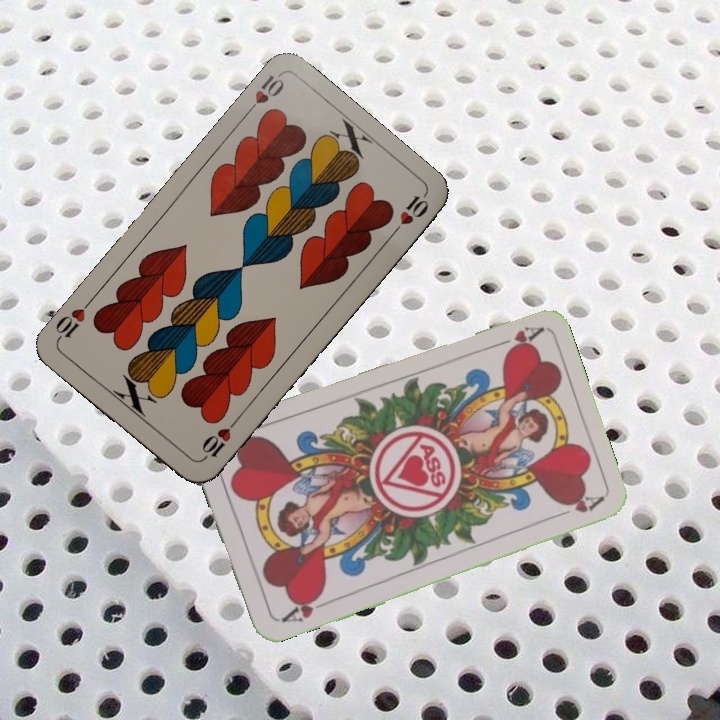H10: (240, 70, 287, 119), (197, 414, 241, 463)
HA: (274, 589, 331, 626), (486, 322, 544, 358)
